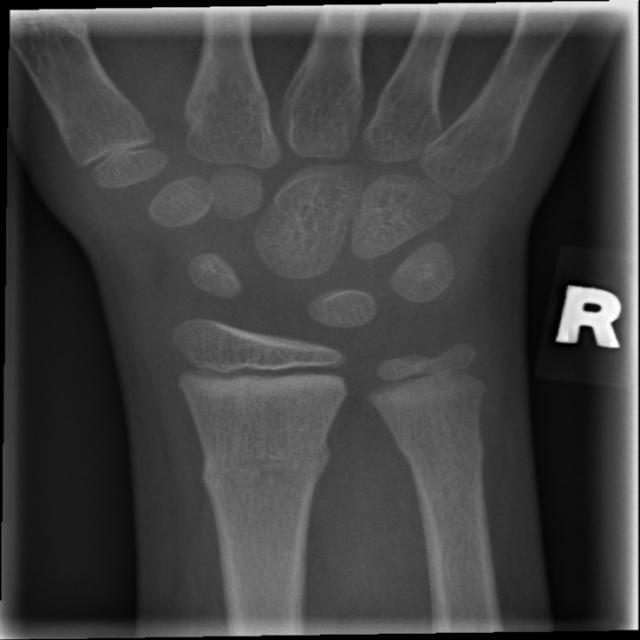radius fracture: (169, 421, 362, 549)
ulna fracture: (370, 403, 525, 569)
